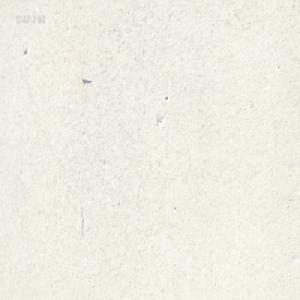Nail: (80, 75, 91, 82)
